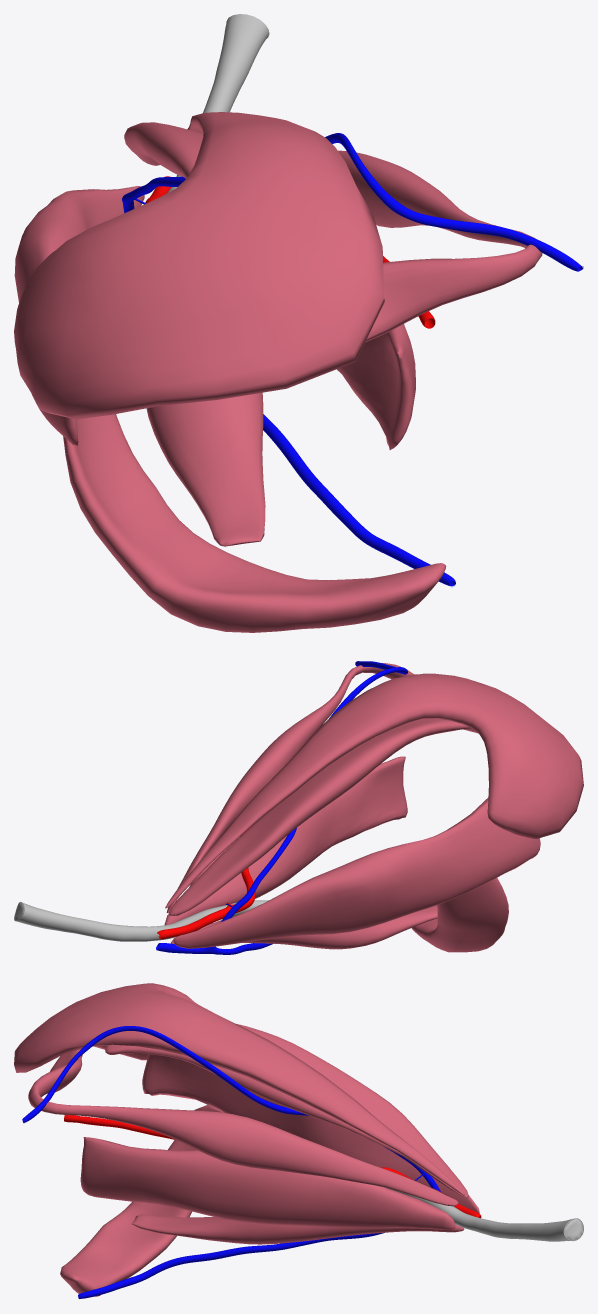
The model's file is VH_M_Eye_R_Landmarks.fbx.
3 views of the same model, one above another, from view 1: azimuth 30°, elevation 25°; view 2: azimuth 150°, elevation 25°; view 3: azimuth 270°, elevation 25° (orthographic). The views are drawn at different scales.
Visible parts, largest first — view 1: VH_M_eye_R_landmark_muscles, VH_M_eye_R_landmark_veins, VH_M_eye_R_landmark_dura_mater_optic_nerve; view 2: VH_M_eye_R_landmark_muscles, VH_M_eye_R_landmark_dura_mater_optic_nerve, VH_M_eye_R_landmark_veins, VH_M_eye_R_landmark_arteries; view 3: VH_M_eye_R_landmark_muscles, VH_M_eye_R_landmark_veins, VH_M_eye_R_landmark_dura_mater_optic_nerve, VH_M_eye_R_landmark_arteries.
Boxes of the visible parts, x1,y1,x2,y2 form: VH_M_eye_R_landmark_muscles: (14,112,542,632); VH_M_eye_R_landmark_veins: (122,133,583,586); VH_M_eye_R_landmark_dura_mater_optic_nerve: (167,14,269,192); VH_M_eye_R_landmark_muscles: (164,663,583,952); VH_M_eye_R_landmark_dura_mater_optic_nerve: (14,900,269,941); VH_M_eye_R_landmark_veins: (156,661,407,954); VH_M_eye_R_landmark_arteries: (157,827,255,939); VH_M_eye_R_landmark_muscles: (14,983,479,1296); VH_M_eye_R_landmark_veins: (22,1026,440,1298); VH_M_eye_R_landmark_dura_mater_optic_nerve: (385,1187,583,1241); VH_M_eye_R_landmark_arteries: (64,1115,481,1218).
Bounding box in the file's own units: 4.77 × 3.58 × 6.67.
